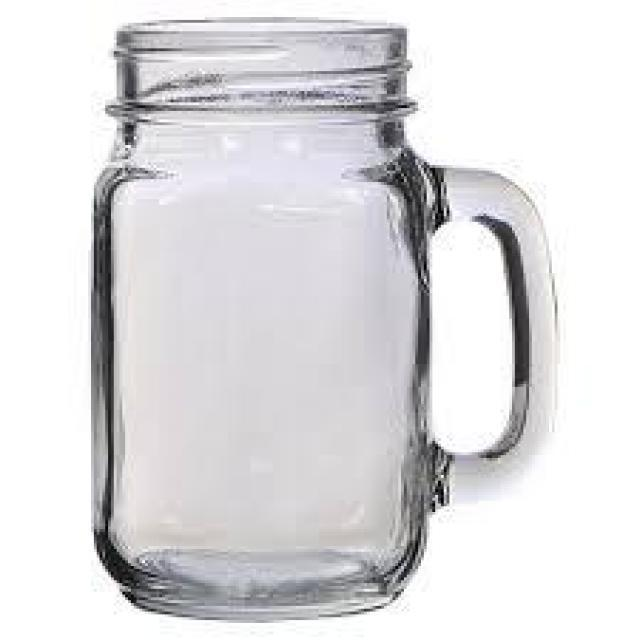glass: (85, 12, 564, 622)
